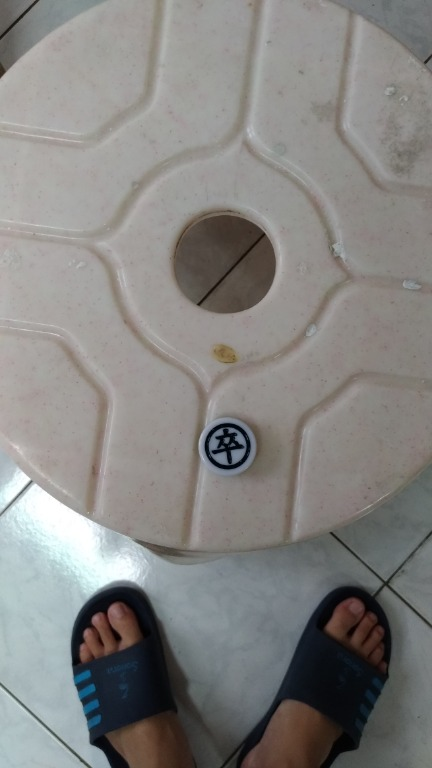b-pawn: (187, 412, 274, 487)
